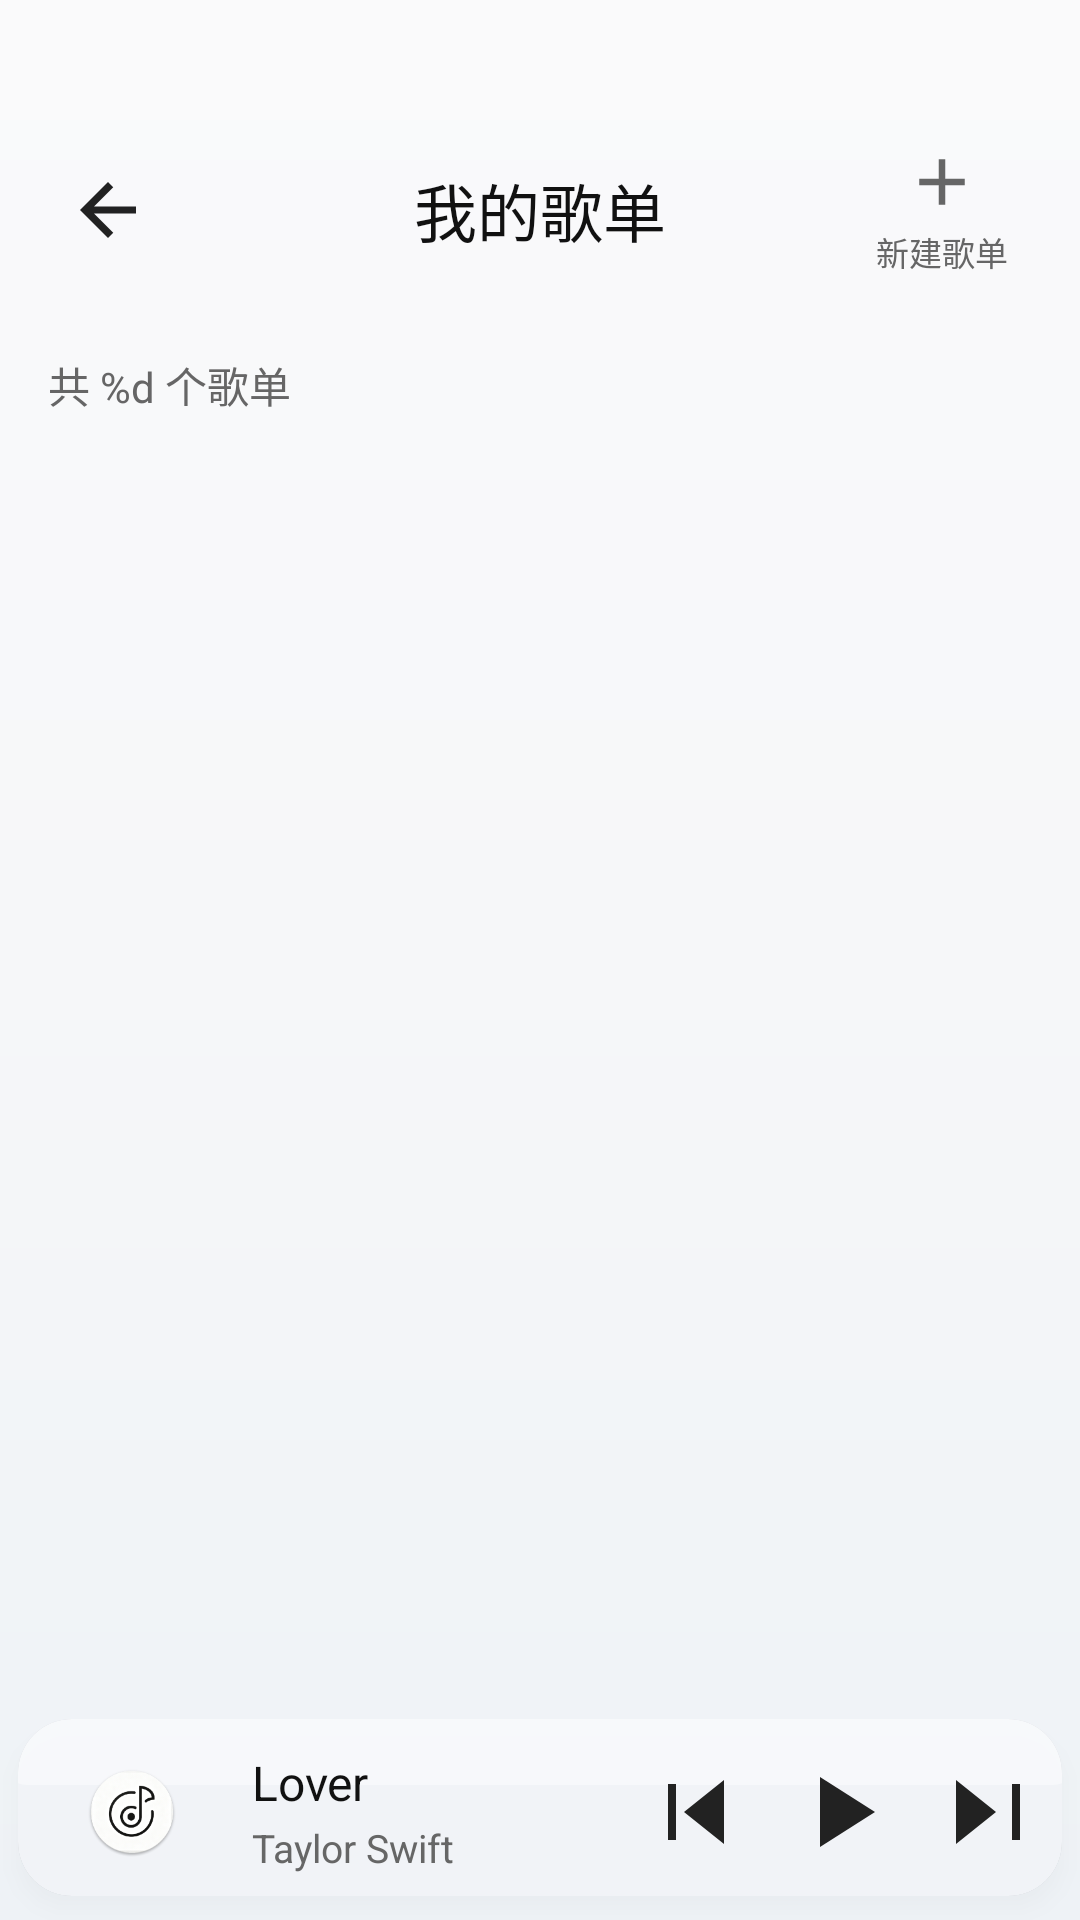

Icons on this 1080×1920 Android screen, each with its box as (x1, y1, x2, y2):
next: (956, 1780, 1020, 1844)
play triangle: (820, 1777, 875, 1847)
prev: (668, 1780, 724, 1844)
返回上一页: (80, 182, 136, 238)
